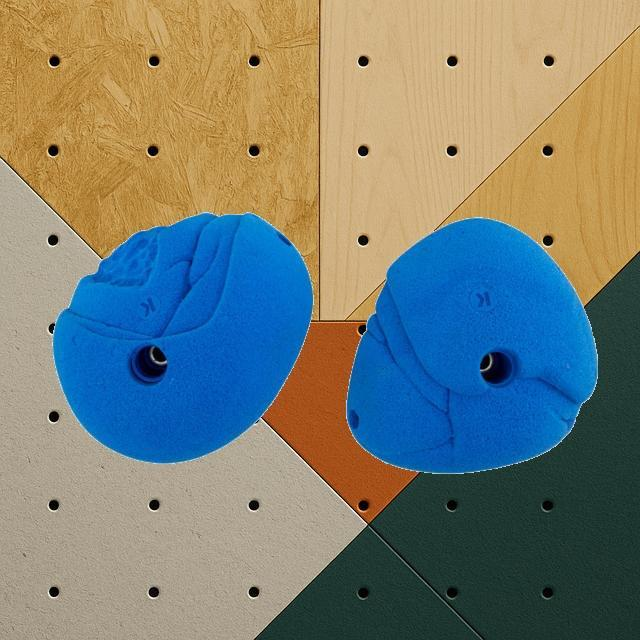Jug: (52, 211, 314, 464), (346, 216, 598, 474)
